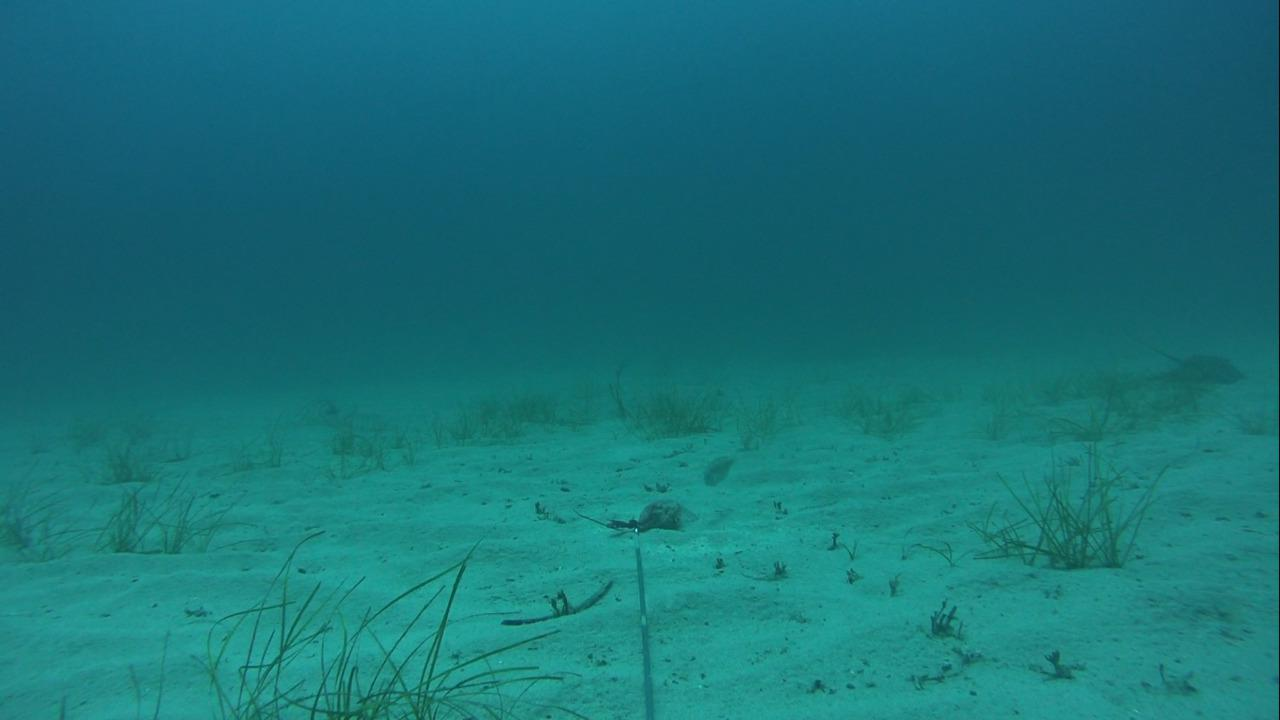myliobatis: (1104, 328, 1258, 387)
raor: (694, 448, 742, 492)
